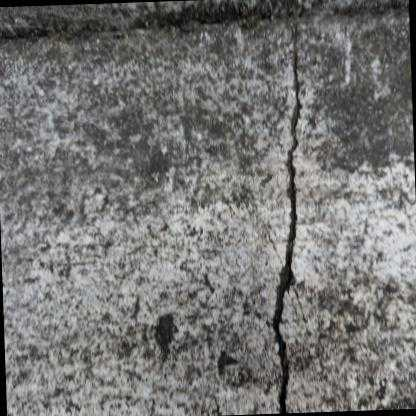crack: (274, 46, 301, 414)
